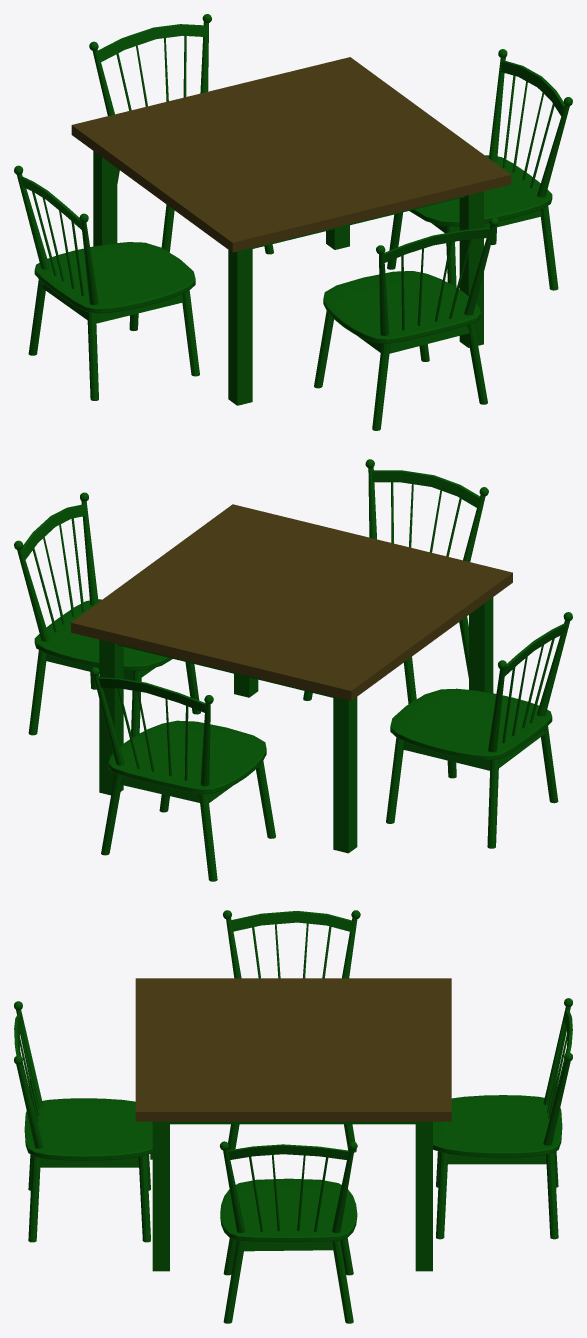
The model's file is DiningTable.fbx.
The picture shows the model from 3 angles, top to bottom: view 1: azimuth 30°, elevation 25°; view 2: azimuth 150°, elevation 25°; view 3: azimuth 270°, elevation 25°; orthographic projection. The views are drawn at different scales.
Parts seen in each view (by area): view 1: Top, Seat (×3), Leg1 (×4), Leg4 (×2), CrossBeam (×4), Leg3 (×2), Sidepost1 (×3), Sidepost2 (×3), Leg2 (×2), Skirt3, Skirt2; view 2: Top, Seat (×3), Leg2 (×4), Leg3 (×2), CrossBeam (×4), Leg4 (×2), Sidepost2 (×3), Sidepost1 (×3), Leg1 (×2), Skirt3, Skirt1; view 3: Top, Seat (×3), Leg1 (×3), Leg2 (×3), CrossBeam (×2), Sidepost2 (×2), Sidepost1 (×2), Skirt, Skirt1, Skirt2, Skirt3, Leg4 (+1 smaller).
Part boxes in pixels (x1,y1,x2,y2): Top: [71, 57, 511, 252]; Seat (×3): [34, 155, 552, 343]; Leg1 (×4): [28, 191, 558, 430]; Leg4 (×2): [182, 248, 252, 405]; CrossBeam (×4): [21, 24, 564, 262]; Leg3 (×2): [93, 151, 333, 388]; Sidepost1 (×3): [81, 57, 505, 315]; Sidepost2 (×3): [17, 105, 569, 335]; Leg2 (×2): [87, 312, 487, 404]; Skirt3: [389, 325, 469, 353]; Skirt2: [96, 294, 183, 323]; Top: [71, 504, 512, 700]; Seat (×3): [34, 599, 552, 794]; Leg2 (×4): [28, 639, 558, 881]; Leg3 (×2): [333, 696, 403, 853]; CrossBeam (×4): [22, 470, 566, 712]; Leg4 (×2): [256, 597, 493, 838]; Sidepost2 (×3): [81, 501, 505, 765]; Sidepost1 (×3): [17, 549, 569, 786]; Leg1 (×2): [101, 759, 499, 855]; Skirt3: [120, 775, 199, 802]; Skirt1: [402, 741, 490, 770]; Top: [135, 978, 451, 1121]; Seat (×3): [24, 1095, 562, 1242]; Leg1 (×3): [152, 1121, 558, 1323]; Leg2 (×3): [28, 1121, 432, 1323]; CrossBeam (×2): [228, 911, 352, 1159]; Sidepost2 (×2): [223, 1061, 570, 1232]; Sidepost1 (×2): [16, 1064, 354, 1232]; Skirt: [170, 1121, 415, 1124]; Skirt1: [448, 1154, 546, 1164]; Skirt2: [40, 1157, 138, 1167]; Skirt3: [243, 1241, 333, 1251]; Leg4: [138, 1155, 150, 1242].
Size of the model in its own units: 6.24 by 2.32 by 6.28.
